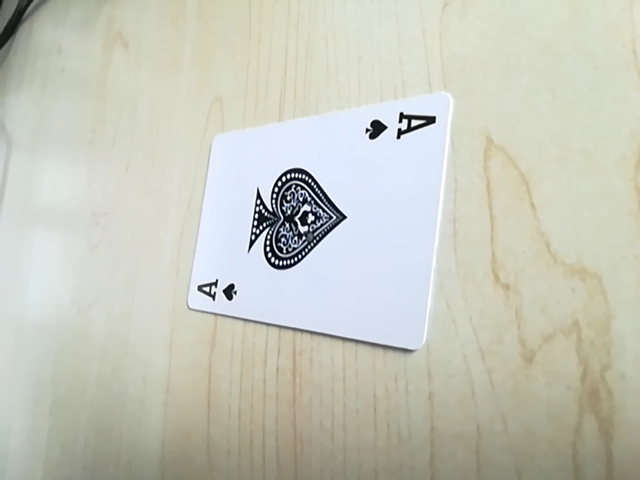ht a: (361, 105, 438, 149), (188, 271, 243, 312)
